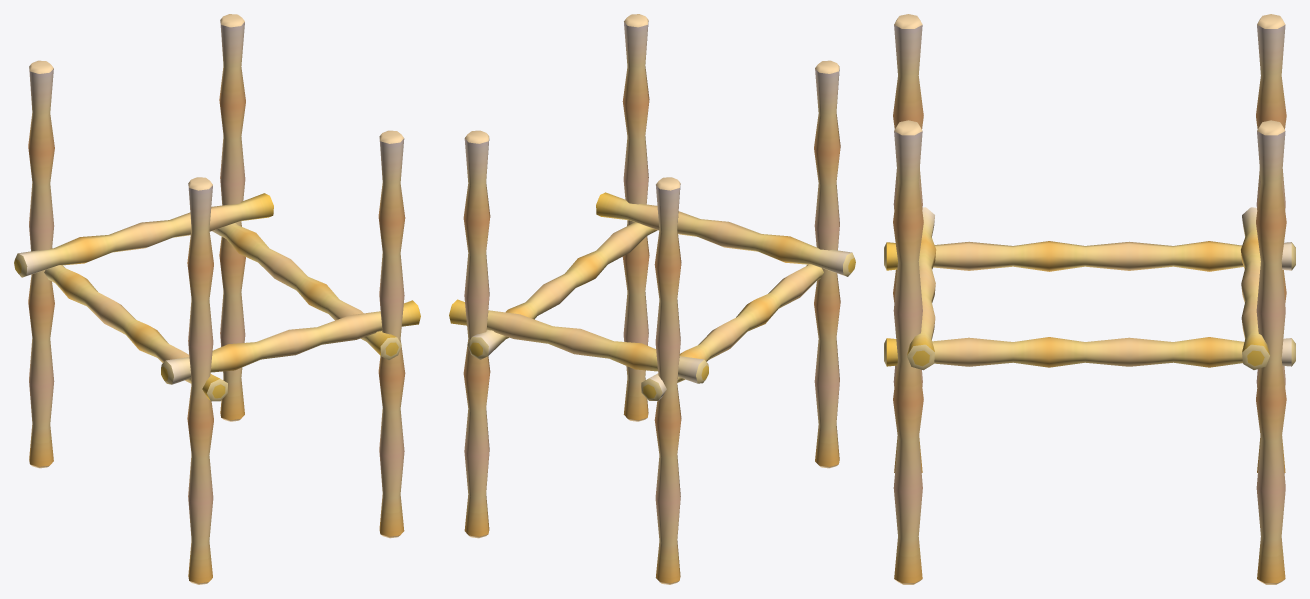
File: Bamboo_Construction_01.glb
3 renders of one model, left to right at view 1: azimuth 30°, elevation 25°; view 2: azimuth 150°, elevation 25°; view 3: azimuth 270°, elevation 25°, orthographic. The views are drawn at different scales.
Parts seen in each view (by area): view 1: Bamboo_Construction_01; view 2: Bamboo_Construction_01; view 3: Bamboo_Construction_01.
Part boxes in pixels (x1,y1,x2,y2): Bamboo_Construction_01: (14,14,420,584); Bamboo_Construction_01: (449,14,855,584); Bamboo_Construction_01: (884,14,1295,584).
Bounding box in the file's own units: 2.64 × 4 × 3.28.
Materials: 1 (1 with a texture image).
